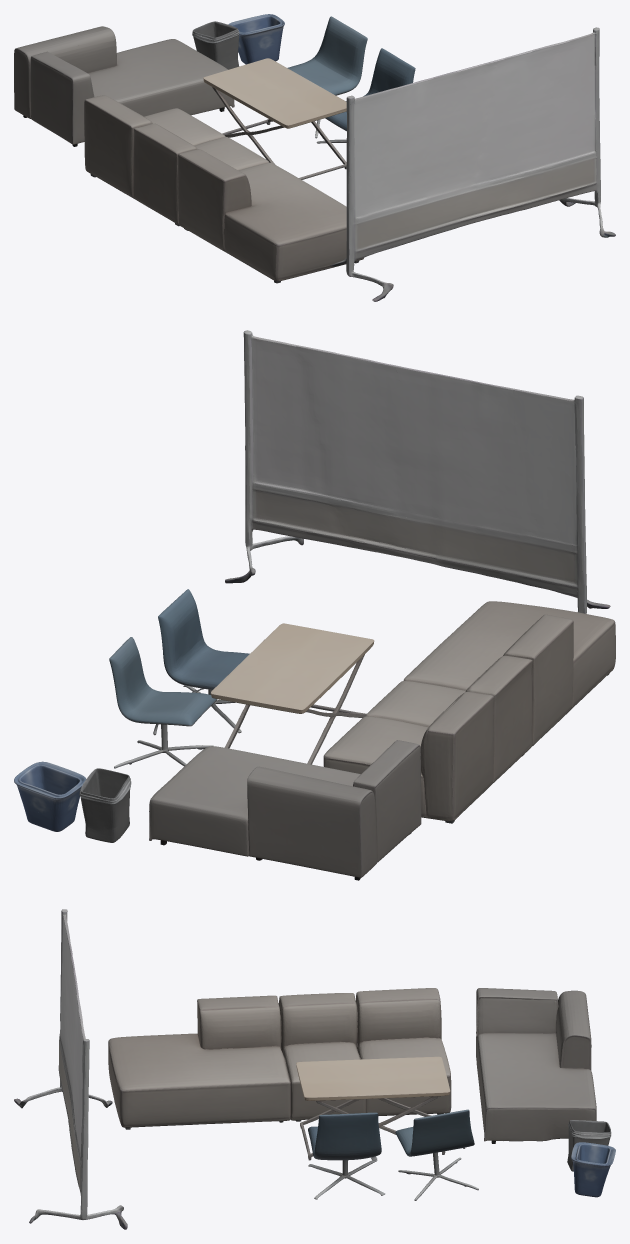
Rendered from ours.glb.
3 renders of one model, top to bottom at view 1: azimuth 30°, elevation 25°; view 2: azimuth 150°, elevation 25°; view 3: azimuth 270°, elevation 25°, orthographic. The views are drawn at different scales.
Visible parts, largest first — view 1: world; view 2: world; view 3: world.
Boxes of the visible parts, x1,y1,x2,y2 form: world: (14,14,615,301); world: (14,330,615,880); world: (14,909,615,1229).
Bounding box in the file's own units: 3.25 × 1.79 × 4.88.
